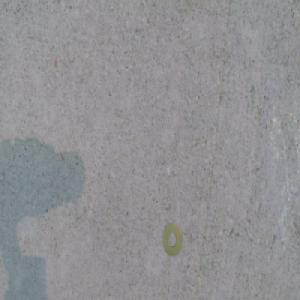Washer: (161, 223, 183, 258)
